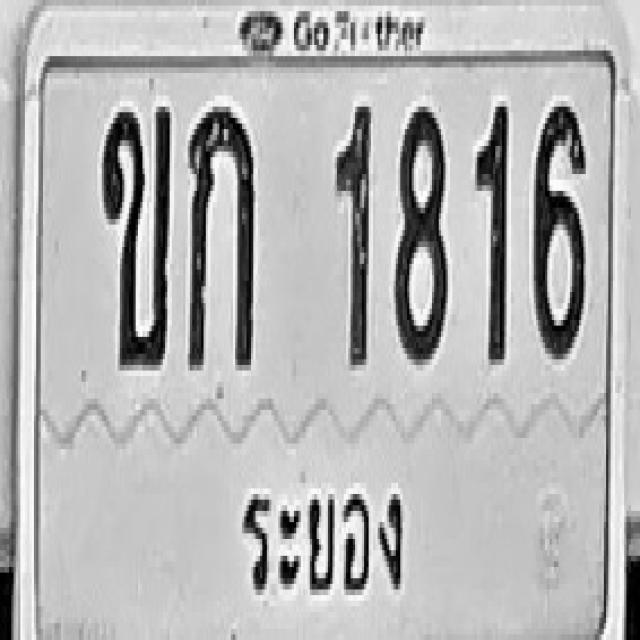1: (335, 98, 371, 368), (473, 101, 508, 365)
10GorGai: (188, 104, 253, 368)
11KhorKhai: (100, 104, 170, 368)
6: (532, 101, 584, 359)
8: (393, 104, 448, 362)
Rayong: (236, 465, 414, 622)
